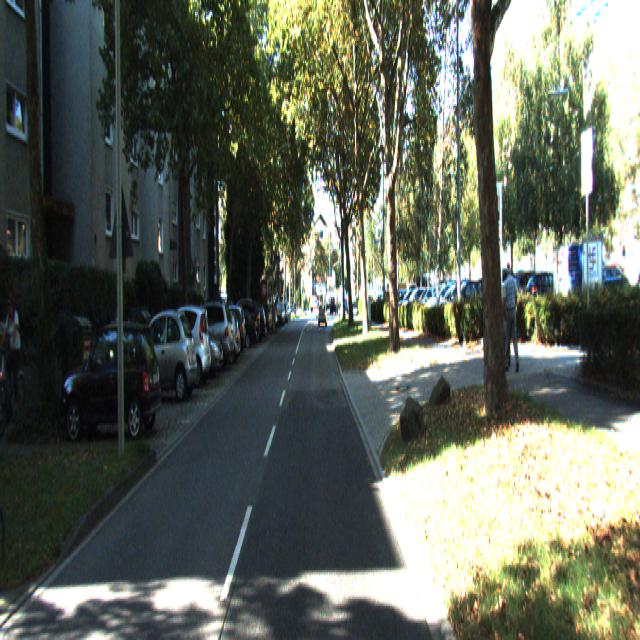Car: (59, 322, 163, 446), (126, 310, 199, 410), (149, 305, 213, 391), (178, 302, 235, 376), (194, 308, 241, 368), (212, 306, 246, 360), (228, 298, 260, 346), (221, 311, 257, 353), (235, 300, 267, 342), (241, 301, 271, 341)
